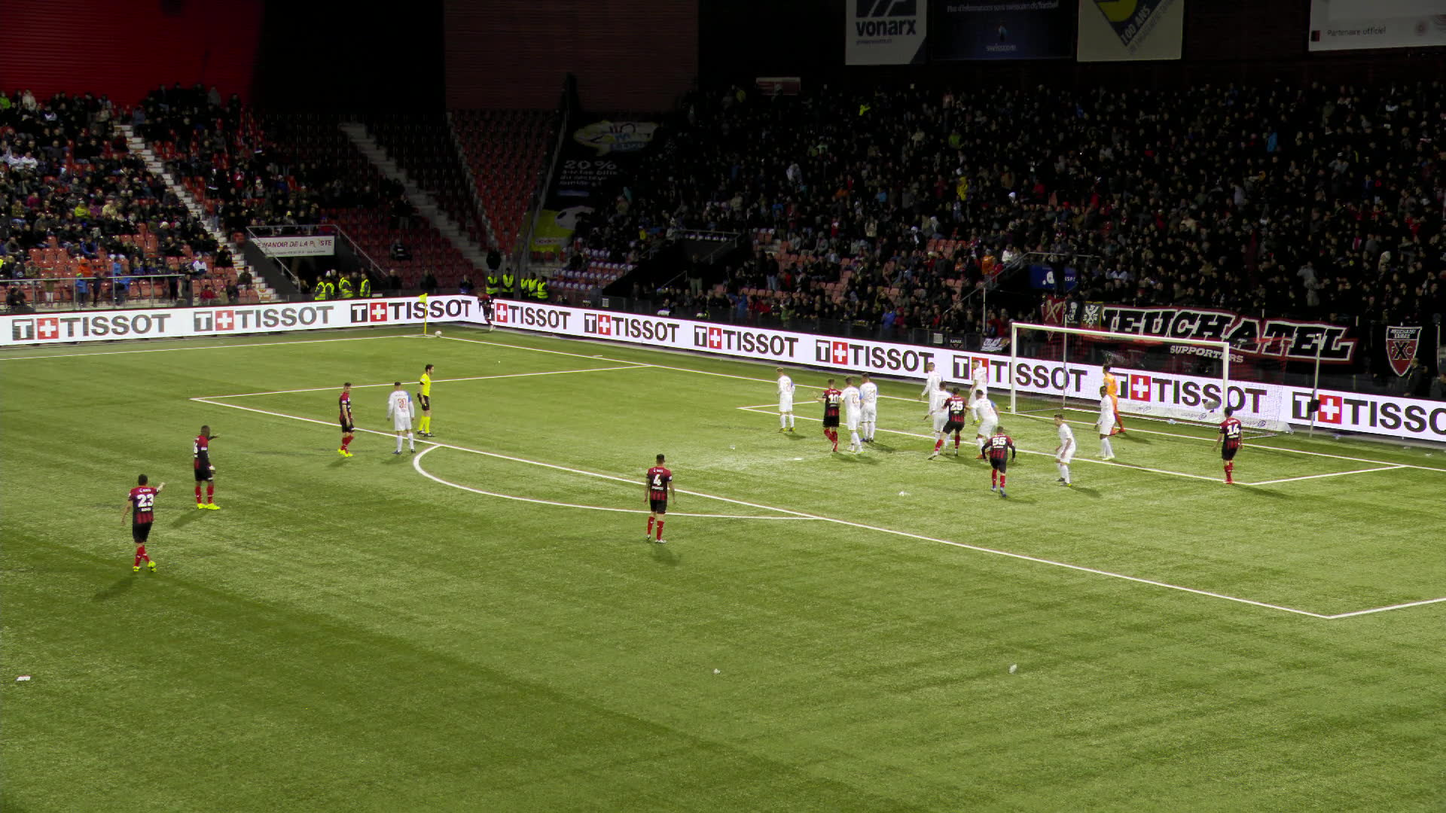ball: (435, 330, 441, 337)
player: (122, 473, 167, 574), (641, 452, 674, 543), (189, 425, 222, 510), (928, 387, 966, 459), (983, 423, 1016, 498), (812, 376, 843, 452), (967, 389, 1000, 459), (1213, 406, 1242, 483), (386, 381, 415, 453), (839, 376, 865, 455), (924, 382, 952, 455), (1053, 411, 1076, 486), (919, 362, 942, 436), (1101, 363, 1124, 434), (335, 381, 356, 458), (856, 372, 878, 442), (1095, 385, 1115, 460), (967, 359, 988, 425), (776, 366, 795, 432), (477, 291, 493, 330)
referee: (416, 364, 434, 436)
